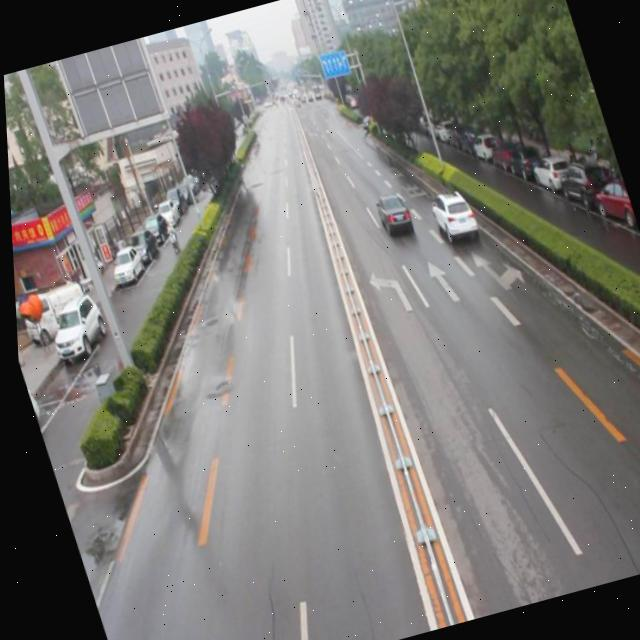car: (425, 186, 478, 243), (370, 190, 413, 237), (358, 115, 371, 131)
